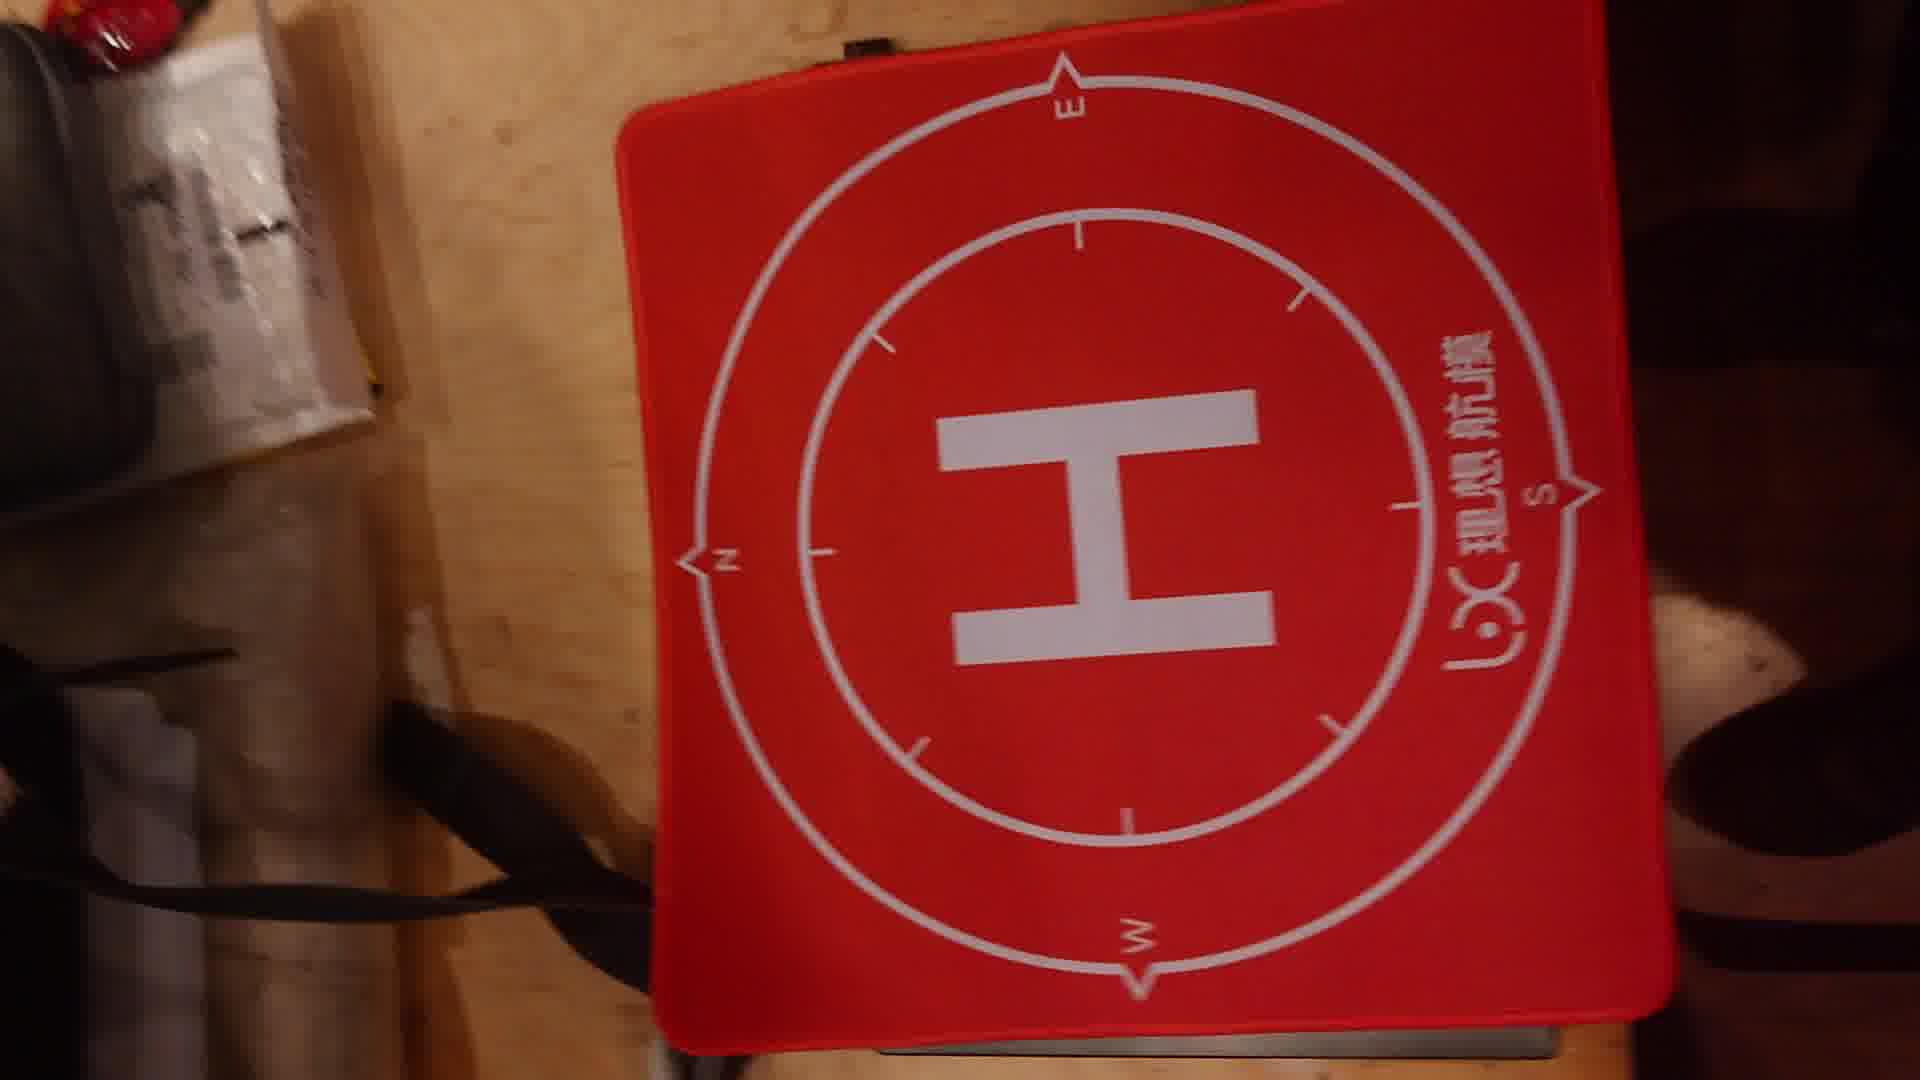H: (935, 386, 1274, 671)
